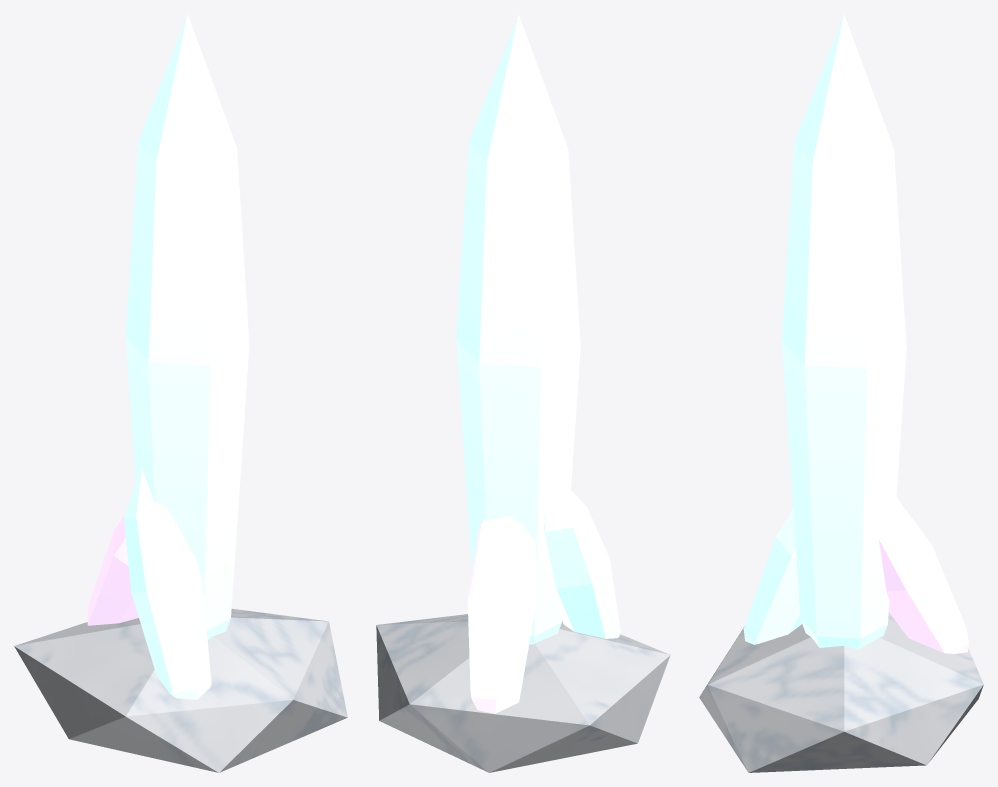
Rendered from prism_crystal_small.gltf.
3 views of the same model, side by side, from view 1: azimuth 30°, elevation 25°; view 2: azimuth 150°, elevation 25°; view 3: azimuth 270°, elevation 25° (orthographic).
Parts seen in each view (by area): view 1: prism_crystal_small; view 2: prism_crystal_small; view 3: prism_crystal_small.
Part boxes in pixels (box(x1,y1,x2,y2)): prism_crystal_small: box(14, 14, 347, 772); prism_crystal_small: box(376, 14, 670, 772); prism_crystal_small: box(699, 14, 983, 772).
Size of the model in its own units: 0.3164 by 0.825 by 0.2931.
Materials: 1 (1 with a texture image).
